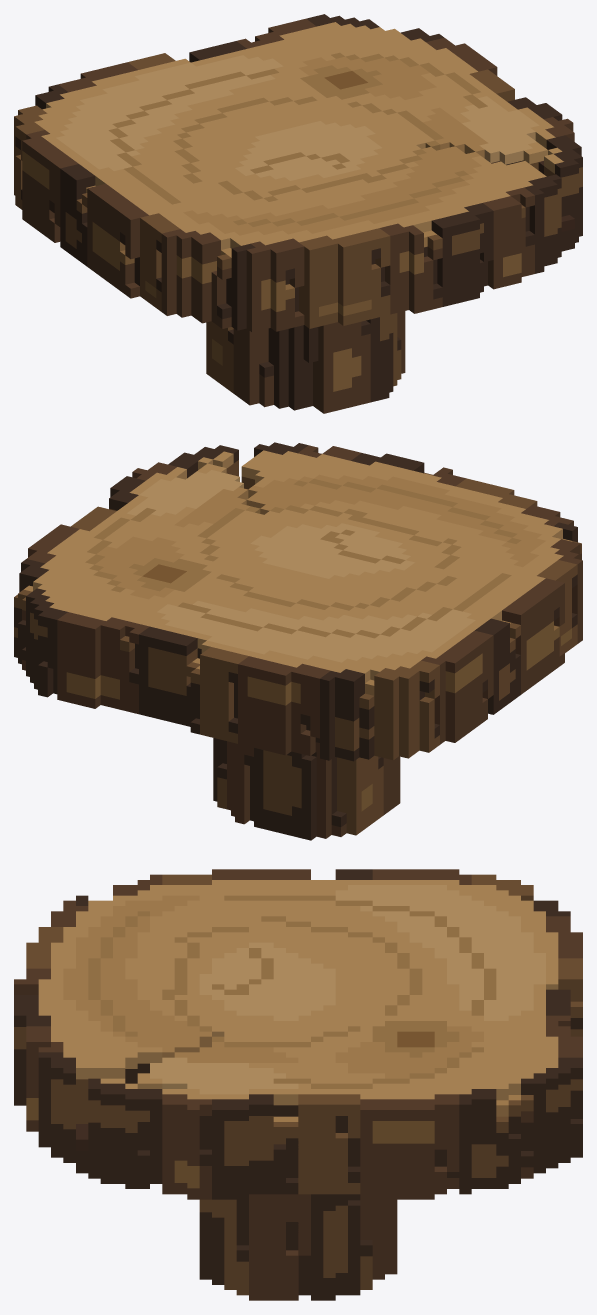
File: log_table.glb
3 views of the same model, one above another, from view 1: azimuth 30°, elevation 25°; view 2: azimuth 150°, elevation 25°; view 3: azimuth 270°, elevation 25° (orthographic). The views are drawn at different scales.
Parts seen in each view (by area): view 1: VoxelVisual; view 2: VoxelVisual; view 3: VoxelVisual.
Boxes of the visible parts, left/top/right/bottom form: VoxelVisual: left=14, top=14, right=582, bottom=413; VoxelVisual: left=14, top=442, right=582, bottom=840; VoxelVisual: left=14, top=869, right=582, bottom=1300.
Size of what is drawn, in the model's own units: 2.88 by 1.5 by 2.88.
